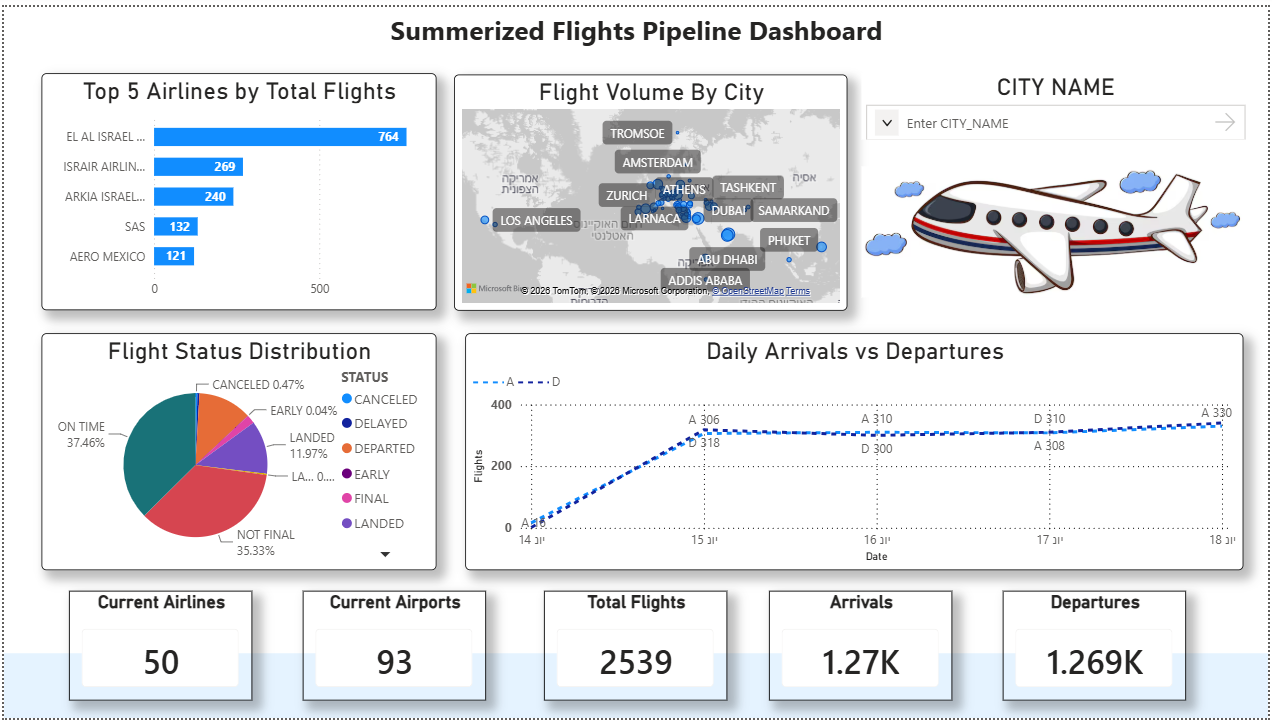

This screenshot's page, from the dashboard's own definition file:
{"tool":"powerbi","page":{"name":"Page 1","canvas":[1280,720],"ordinal":0},"visuals":[{"type":"shape","box":[0,654.5,1280,65.9],"z":0},{"type":"textbox","box":[722.4,0,539.6,133.9],"z":1000},{"type":"textbox","box":[381.7,0,516.6,48],"z":2000},{"type":"cardVisual","title":"Current Airports","fields":{"Data":["CountNonNull(DIM_AIRPORTS.AIRPORT_CODE)"]},"box":[302.3,590.5,185.9,110.9],"z":3000},{"type":"cardVisual","title":"Departures","fields":{"Data":["CountNonNull(FACT_FLIGHTS.ARRIVAL_DEPARTURE)"]},"box":[1011.2,590.5,185.9,110.9],"z":4000},{"type":"cardVisual","title":"Arrivals","fields":{"Data":["CountNonNull(FACT_FLIGHTS.ARRIVAL_DEPARTURE)"]},"box":[774.9,590.5,185.9,110.9],"z":5000},{"type":"cardVisual","title":"Total Flights","fields":{"Data":["CountNonNull(FACT_FLIGHTS.FLIGHT_KEY)"]},"box":[547.1,590.5,185.9,110.9],"z":6000},{"type":"cardVisual","title":"Current Airlines","fields":{"Data":["CountNonNull(DIM_AIRLINES.AIRLINE_NAME)"]},"box":[65.9,590.5,185.9,110.9],"z":7000},{"type":"barChart","title":"Top 5 Airlines by Total Flights","fields":{"Category":["DIM_AIRLINES.AIRLINE_NAME"],"Y":["CountNonNull(FACT_FLIGHTS.FLIGHT_KEY)"]},"box":[38,66.9,399.7,239.8],"z":8000},{"type":"pieChart","title":"Flight Status Distribution","fields":{"Y":["CountNonNull(FACT_FLIGHTS.FLIGHT_KEY)"],"Series":["DIM_STATUS.STATUS"]},"box":[38,330.7,399.7,239.8],"z":9000},{"type":"lineChart","title":"Daily Arrivals vs Departures","fields":{"Series":["FACT_FLIGHTS.ARRIVAL_DEPARTURE"],"Y":["CountNonNull(FACT_FLIGHTS.FLIGHT_KEY)"],"Category":["FACT_FLIGHTS.ACTUAL_TIME.Variation.Date Hierarchy.Year","FACT_FLIGHTS.ACTUAL_TIME.Variation.Date Hierarchy.Quarter","FACT_FLIGHTS.ACTUAL_TIME.Variation.Date Hierarchy.Month","FACT_FLIGHTS.ACTUAL_TIME.Variation.Date Hierarchy.Day"]},"box":[466.6,330.7,788.4,239.8],"z":10000},{"type":"map","title":"Flight Volume By City","fields":{"Category":["DIM_AIRPORTS.CITY_NAME"],"Size":["CountNonNull(FACT_FLIGHTS.FLIGHT_KEY)"]},"box":[453.2,67.2,399,239],"z":11000},{"type":"textSlicer","title":"CITY NAME","fields":{"Values":["DIM_AIRPORTS.CITY_NAME"]},"box":[867.8,67.2,394,67.2],"z":12000},{"type":"image","box":[867.8,149.6,386.9,156.7],"z":13000}]}

Visuals, with their boxes in screenshot pixels (x1, y1, x2, y2), scaled from the page's 1280x720 canvas onto the 1272x723 screenshot:
shape: {"left": 0, "top": 657, "right": 1271, "bottom": 722}
textbox: {"left": 718, "top": 0, "right": 1254, "bottom": 134}
textbox: {"left": 379, "top": 0, "right": 893, "bottom": 48}
"Current Airports" cardVisual: {"left": 300, "top": 593, "right": 485, "bottom": 704}
"Departures" cardVisual: {"left": 1005, "top": 593, "right": 1190, "bottom": 704}
"Arrivals" cardVisual: {"left": 770, "top": 593, "right": 955, "bottom": 704}
"Total Flights" cardVisual: {"left": 544, "top": 593, "right": 728, "bottom": 704}
"Current Airlines" cardVisual: {"left": 65, "top": 593, "right": 250, "bottom": 704}
"Top 5 Airlines by Total Flights" barChart: {"left": 38, "top": 67, "right": 435, "bottom": 308}
"Flight Status Distribution" pieChart: {"left": 38, "top": 332, "right": 435, "bottom": 573}
"Daily Arrivals vs Departures" lineChart: {"left": 464, "top": 332, "right": 1247, "bottom": 573}
"Flight Volume By City" map: {"left": 450, "top": 67, "right": 847, "bottom": 307}
"CITY NAME" textSlicer: {"left": 862, "top": 67, "right": 1254, "bottom": 135}
image: {"left": 862, "top": 150, "right": 1247, "bottom": 308}
